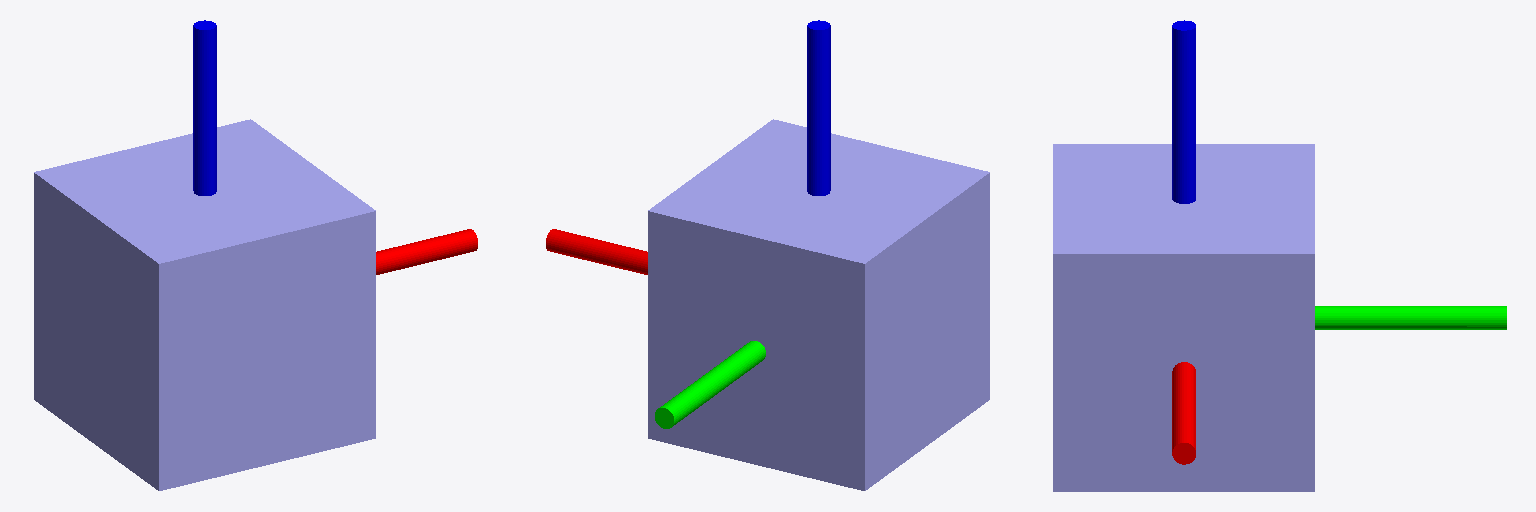
The robot description file, URDF, robot "object":
<?xml version="1.0"?>
<robot name="object">
  <link name="object">
    <visual>
      <origin xyz="0 0 0"/>
      <geometry>
        <box size="0.065 0.065 0.065"/>
      </geometry>
      <material name="multicolor">
        <color rgba="0.7 0.7 1.0 0.3"/>
      </material>
    </visual>
    <collision>
      <origin xyz="0 0 0"/>
      <geometry>
        <box size="0.065 0.065 0.065"/>
      </geometry>
    </collision>
    <inertial>
      <!-- <density value="400.0"/> -->
      <mass value="0.10985"/>
      <inertia ixx="1e-4" ixy="0" ixz="0" iyy="1e-4" iyz="0" izz="1e-4"/>
    </inertial>
  </link>
  <link name="x">
    <visual>
      <origin xyz="0.04 0 0" rpy="0 1.5707 0"/>
      <geometry>
        <cylinder radius="0.003" length="0.08"/>
      </geometry>
      <material name="r">
        <color rgba="1 0 0 1"/>
      </material>
    </visual>
    <inertial>
      <mass value="0.05"/>
      <inertia ixx="1e-4" ixy="0" ixz="0" iyy="1e-4" iyz="0" izz="1e-4"/>
    </inertial>
  </link>
  <link name="y">
    <visual>
      <origin xyz="0 0.04 0" rpy="1.5707 0 0"/>
      <geometry>
        <cylinder radius="0.003" length="0.08"/>
      </geometry>
      <material name="g">
        <color rgba="0 1 0 1"/>
      </material>
    </visual>
    <inertial>
      <mass value="0.05"/>
      <inertia ixx="1e-4" ixy="0" ixz="0" iyy="1e-4" iyz="0" izz="1e-4"/>
    </inertial>
  </link>
  <link name="z">
    <visual>
      <origin xyz="0 0 0.04" rpy="0 0 0"/>
      <geometry>
        <cylinder radius="0.003" length="0.08"/>
      </geometry>
      <material name="b">
        <color rgba="0 0 1 1"/>
      </material>
    </visual>
    <inertial>
      <mass value="0.05"/>
      <inertia ixx="1e-4" ixy="0" ixz="0" iyy="1e-4" iyz="0" izz="1e-4"/>
    </inertial>
  </link>
  <joint name="root" type="fixed">
    <origin xyz="0 0 0" rpy="0 0 0"/>
    <parent link="object"/>
    <child link="x"/>
  </joint>
  <joint name="xy" type="fixed">
      <origin xyz="0 0 0" rpy="0 0 0"/>
      <parent link="x"/>
      <child link="y"/>
  </joint>
  <joint name="xz" type="fixed">
      <origin xyz="0 0 0" rpy="0 0 0"/>
      <parent link="x"/>
      <child link="z"/>
  </joint>
</robot>

--- What the picture shows (computed from the rendered views, not written in the file) ---
Views: 3 orthographic renders of the robot side by side, from view 1: azimuth 30°, elevation 25°; view 2: azimuth 150°, elevation 25°; view 3: azimuth 270°, elevation 25°.
Robot: object — 4 links, 3 joints (3 fixed); root link object; default pose: every joint at zero.
Links seen in each view (by area): view 1: object, z, x; view 2: object, z, y, x; view 3: object, y, z, x.
Boxes of the visible links, bbox=[...] form: object: bbox=[34, 119, 375, 490]; z: bbox=[193, 20, 216, 195]; x: bbox=[376, 229, 477, 274]; object: bbox=[648, 119, 989, 490]; z: bbox=[807, 20, 830, 195]; y: bbox=[655, 341, 765, 428]; x: bbox=[546, 229, 647, 274]; object: bbox=[1053, 144, 1314, 491]; y: bbox=[1315, 306, 1506, 329]; z: bbox=[1172, 20, 1195, 203]; x: bbox=[1172, 362, 1195, 464].
Bounding box of the posed robot: 0.1125 × 0.1125 × 0.1125 m (x, y, z).
Geometry: primitives only (box / cylinder / sphere), no mesh files.